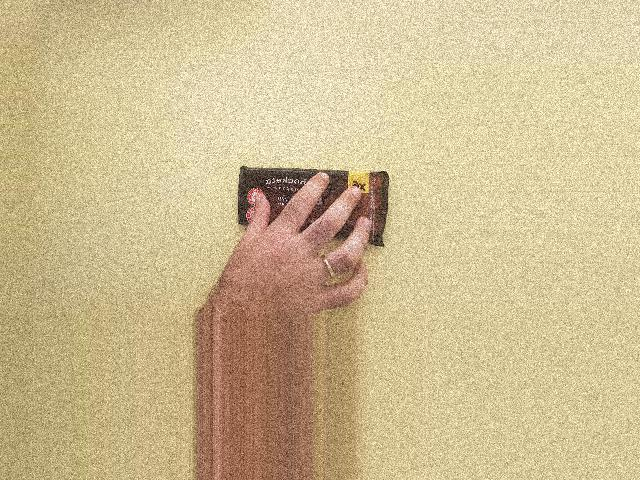chocolate: (232, 164, 391, 244)
